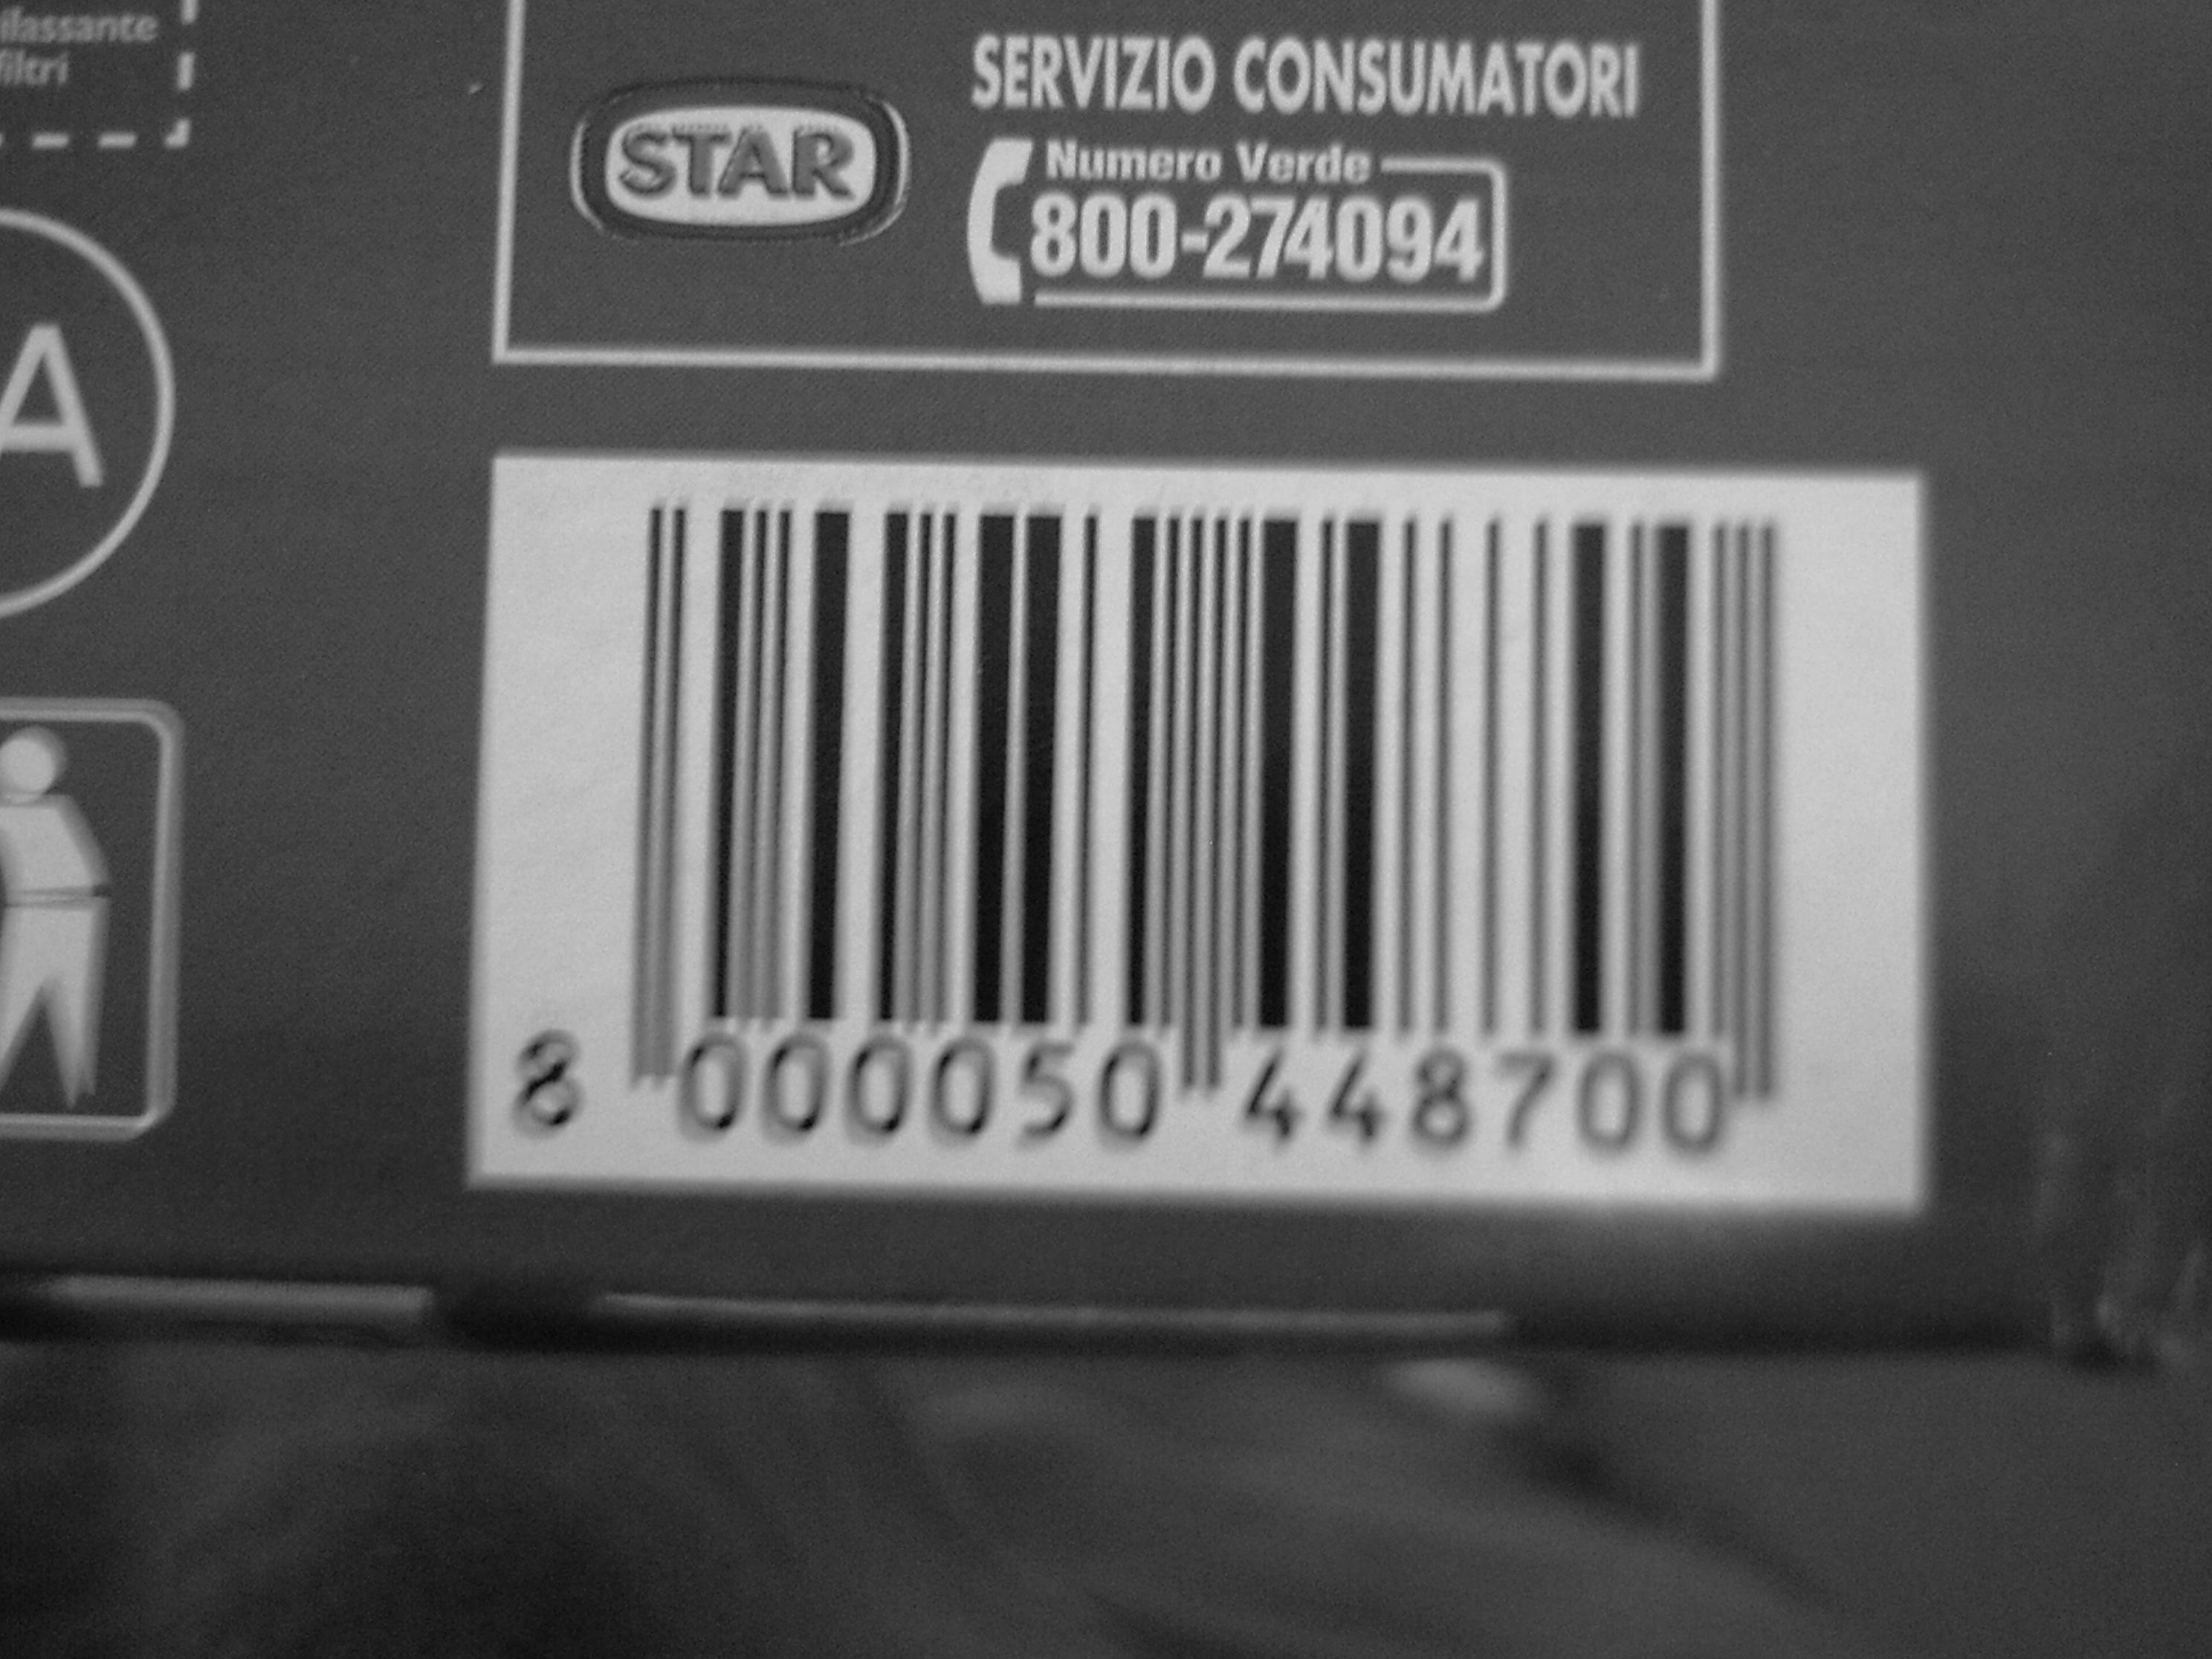Barcode: (524, 486, 1820, 1140)
